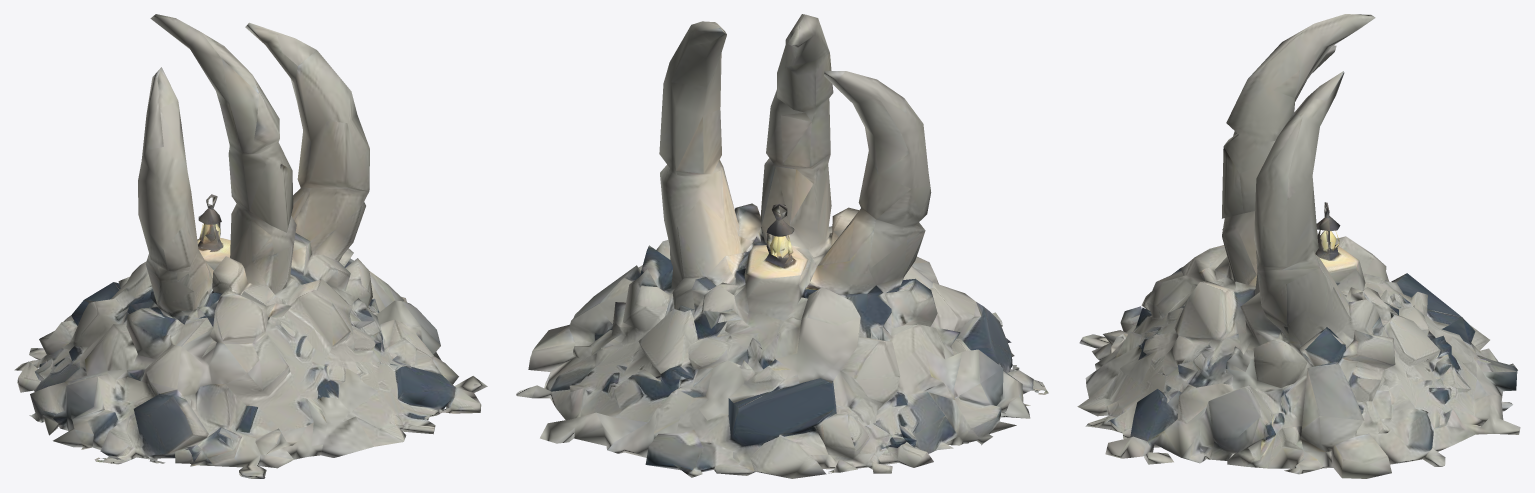
File: repere-griffe.glb
3 renders of one model, left to right at view 1: azimuth 30°, elevation 25°; view 2: azimuth 150°, elevation 25°; view 3: azimuth 270°, elevation 25°, orthographic. The views are drawn at different scales.
Parts seen in each view (by area): view 1: repere-griffe; view 2: repere-griffe; view 3: repere-griffe.
Part boxes in pixels (x1,y1,x2,y2): repere-griffe: (14,14,487,478); repere-griffe: (516,14,1048,478); repere-griffe: (1077,14,1520,478).
Size of the model in its own units: 1.82 by 1.53 by 1.75.
1 material, 1 textured.
